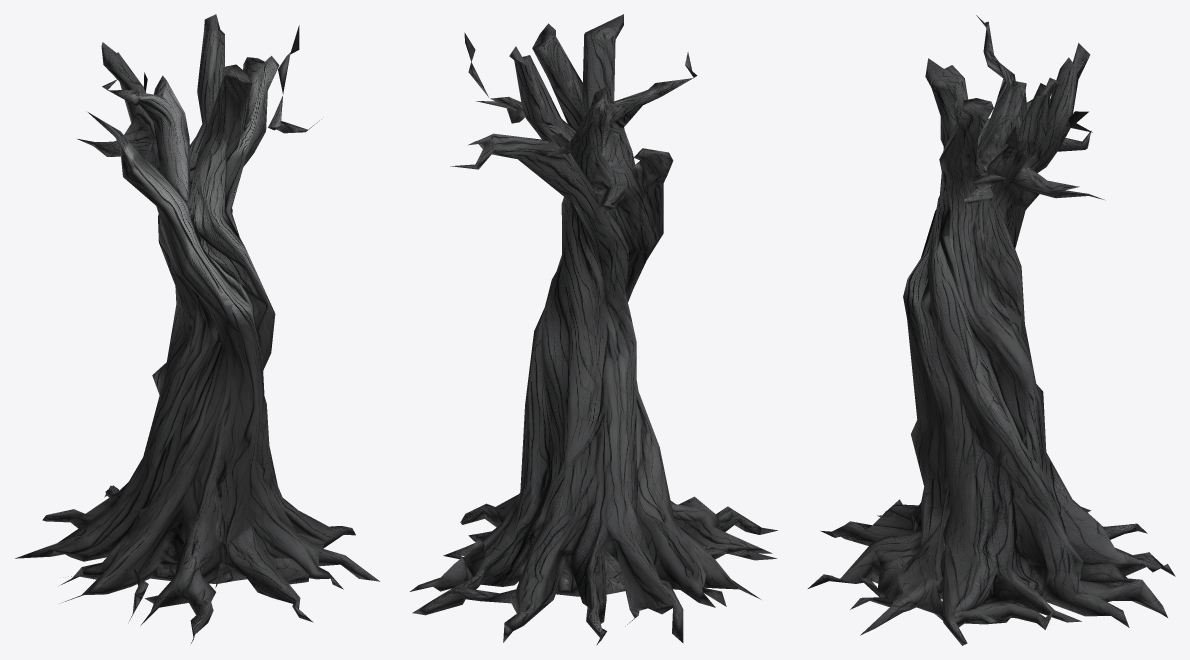
File: prop-deadtree-trunk.glb
3 views of the same model, side by side, from view 1: azimuth 30°, elevation 25°; view 2: azimuth 150°, elevation 25°; view 3: azimuth 270°, elevation 25° (orthographic). The views are drawn at different scales.
Bounding box in the file's own units: 1.19 × 2 × 1.28.
Materials: 1 (1 with a texture image).
